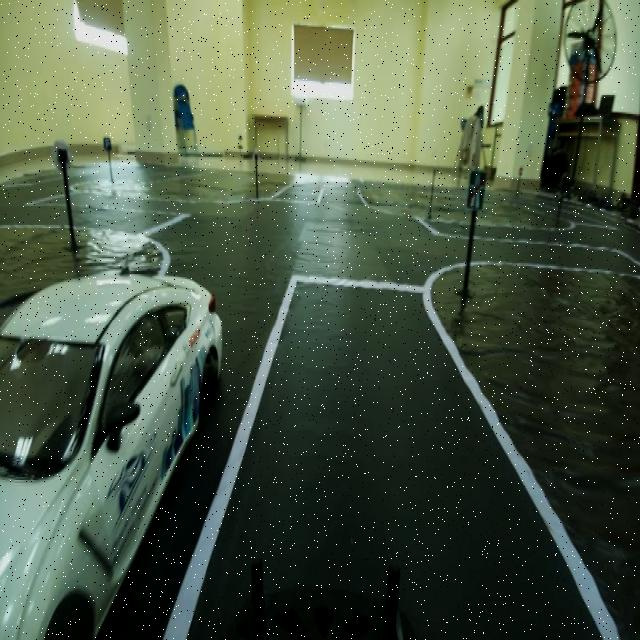car: (1, 234, 185, 626)
highway_exit: (457, 154, 491, 228)
